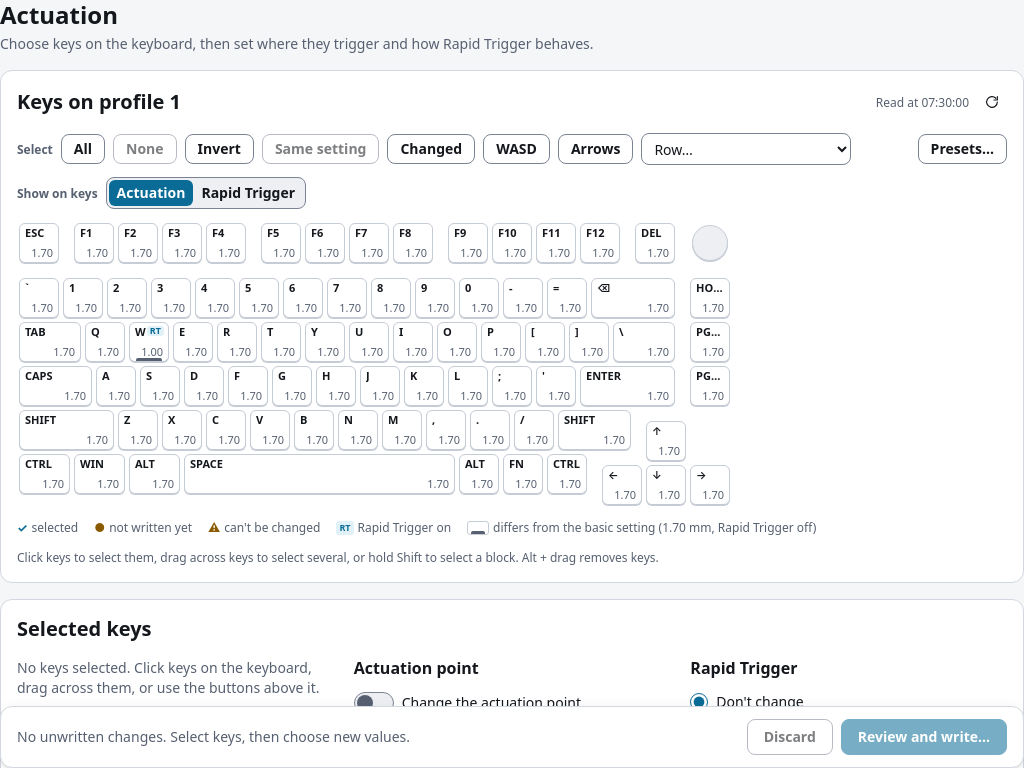
Test: the presets menu › lists the built-in presets and the user's, with a refused one shown, not clamped
Click the button "Presets…". click: (962, 149)
box: [918,134,1007,164]
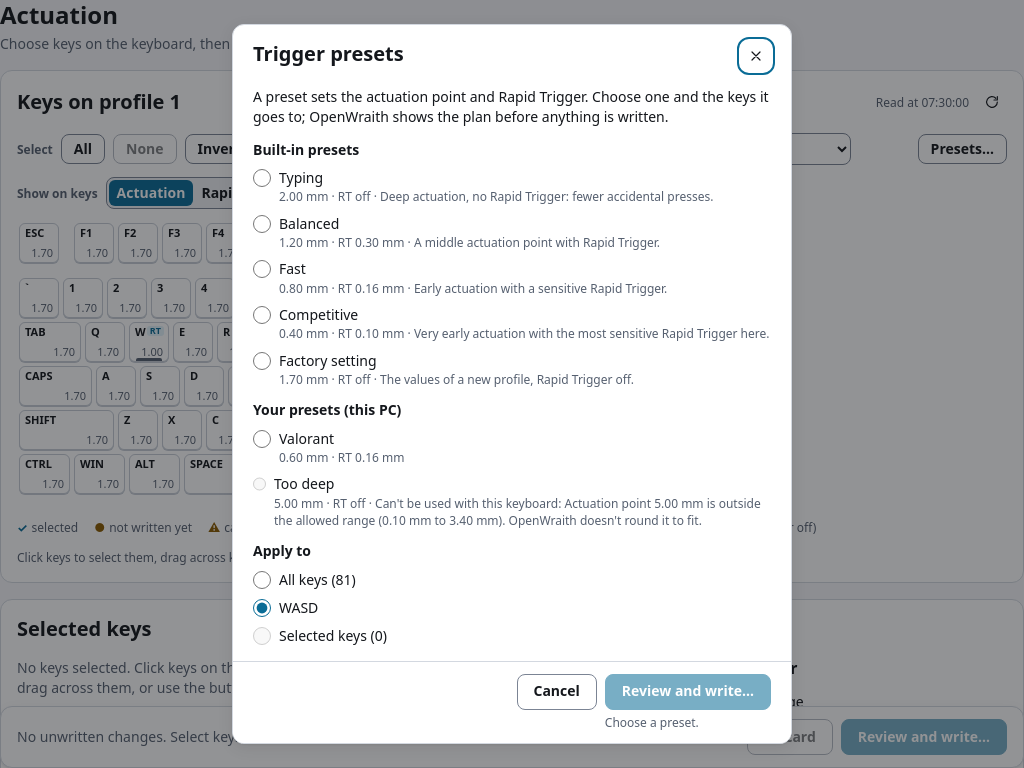
Expected: the radio button labelled "Typing" is shown, [253,169,271,187]
Expected: the radio button labelled "Balanced" is shown, [253,215,271,233]
Expected: the radio button labelled "Fast" is shown, [253,260,271,278]
